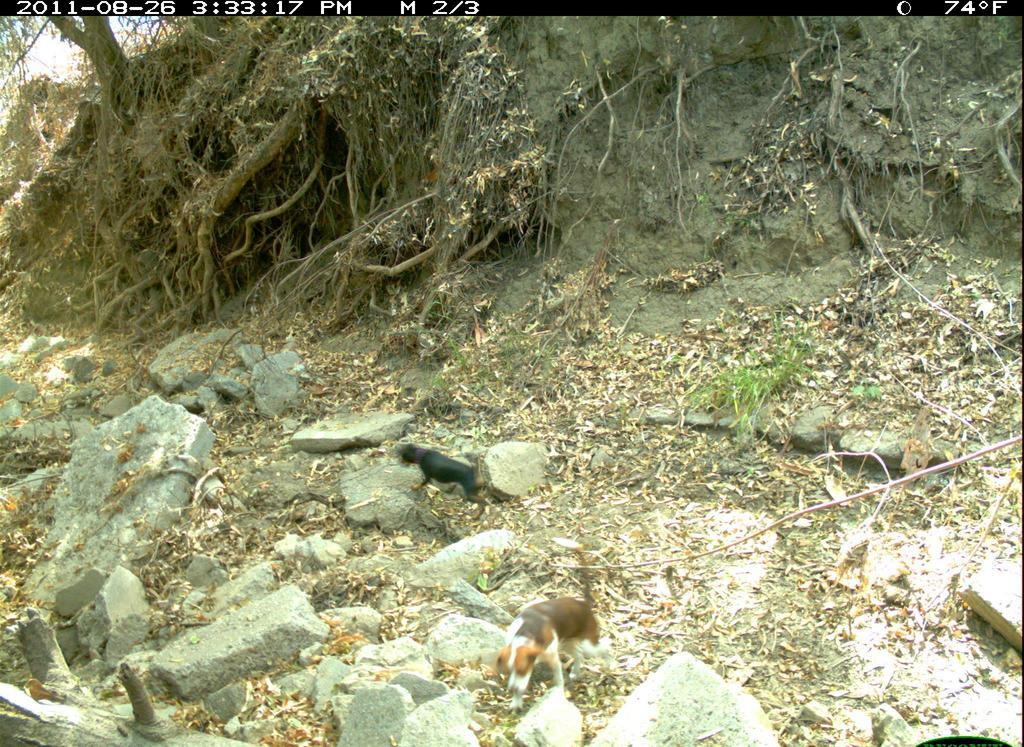dog: (475, 546, 629, 717), (388, 433, 506, 521)
